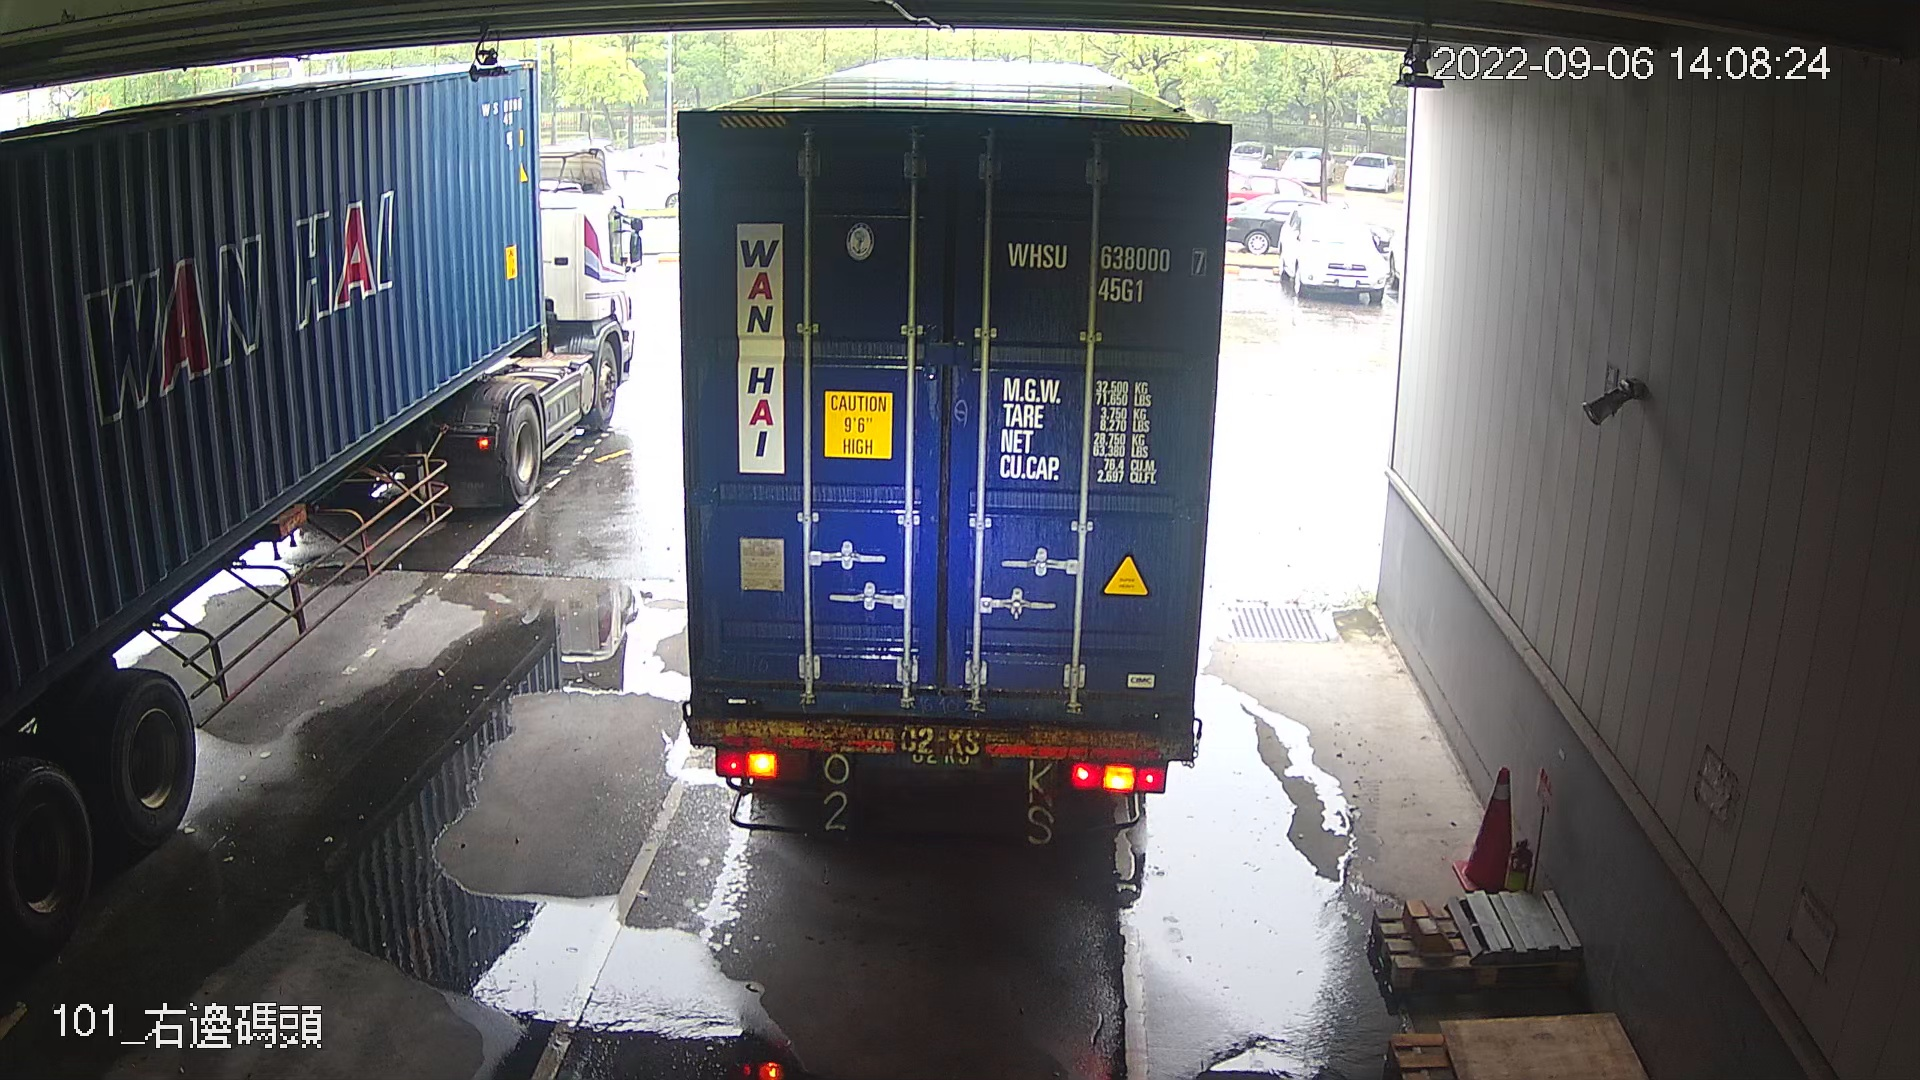container: (992, 229, 1217, 311)
